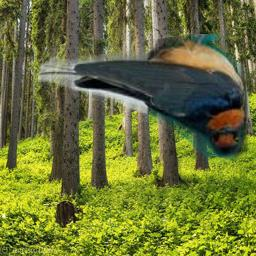Swallow: (38, 34, 251, 164)
